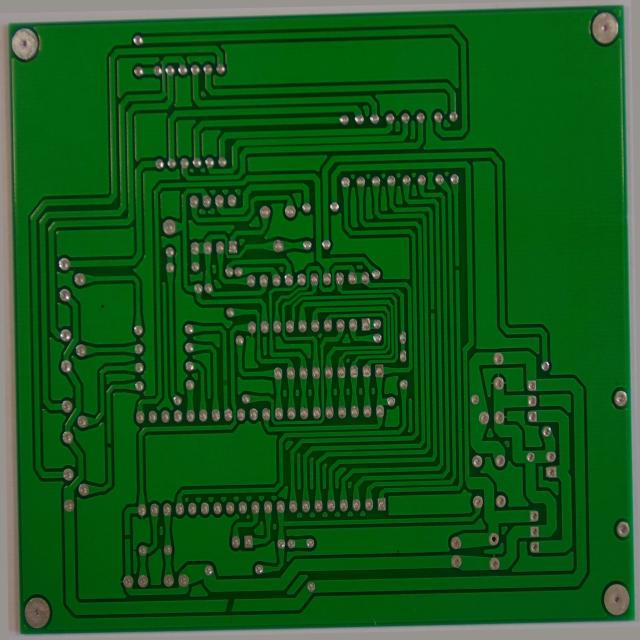open_circuit: (215, 599, 232, 619), (455, 264, 465, 276), (117, 530, 126, 543), (100, 438, 109, 450), (430, 308, 438, 319)
